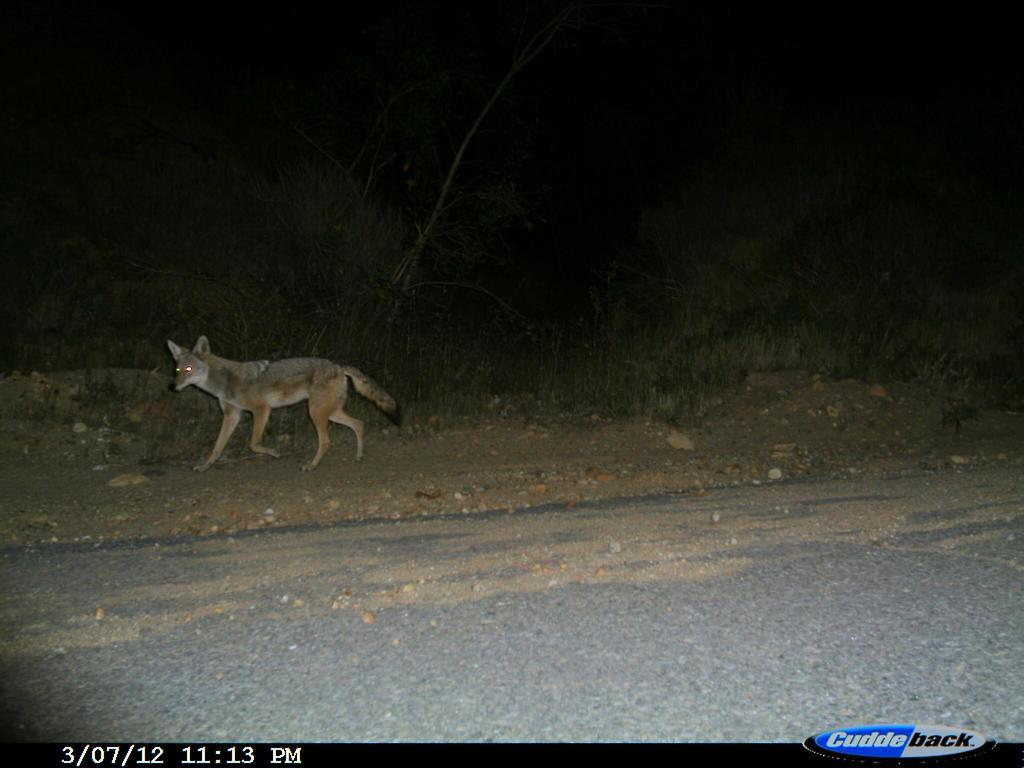coyote: (146, 324, 414, 482)
